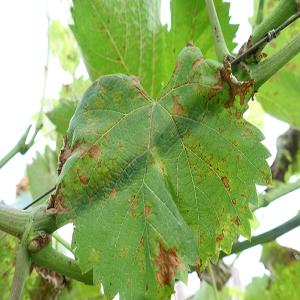Folha: (48, 41, 272, 300)
Fungo: (60, 147, 132, 196), (186, 137, 228, 184), (220, 55, 255, 108), (153, 240, 184, 289), (211, 206, 238, 252), (144, 147, 174, 177), (220, 54, 241, 87), (46, 190, 72, 216), (207, 69, 227, 101), (91, 86, 110, 115), (59, 137, 73, 172), (136, 236, 147, 278), (75, 138, 91, 161), (85, 139, 102, 160), (113, 86, 126, 111), (217, 122, 234, 141), (88, 247, 102, 268), (117, 243, 133, 261), (258, 167, 272, 187), (134, 84, 150, 101), (172, 94, 184, 116), (192, 54, 206, 69), (173, 53, 182, 75), (240, 125, 254, 139), (109, 182, 119, 201), (230, 192, 240, 208), (130, 73, 140, 88), (146, 113, 155, 128), (236, 150, 244, 166), (221, 175, 230, 189), (144, 204, 152, 219), (125, 278, 134, 290), (231, 140, 240, 151), (95, 273, 103, 285), (235, 110, 242, 122), (139, 235, 147, 244), (144, 282, 149, 295), (84, 104, 88, 116), (185, 127, 191, 135), (186, 41, 194, 45)
